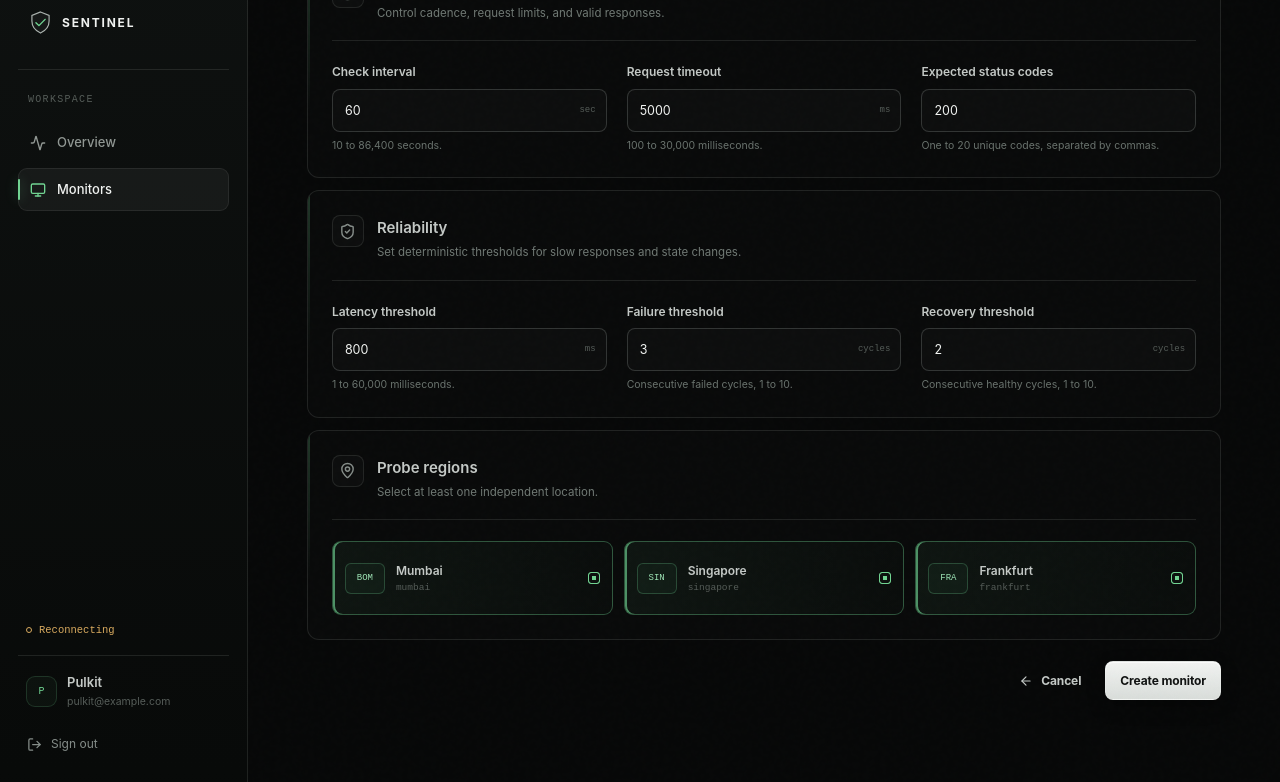
Sentinel monitor workspace › announces required create fields without sending a request
The image size is (1280, 782).
(page scrolled)
Click the button "Create monitor".
click(1163, 681)  # box x1=1105 y1=661 x2=1221 y2=700
(page scrolled)
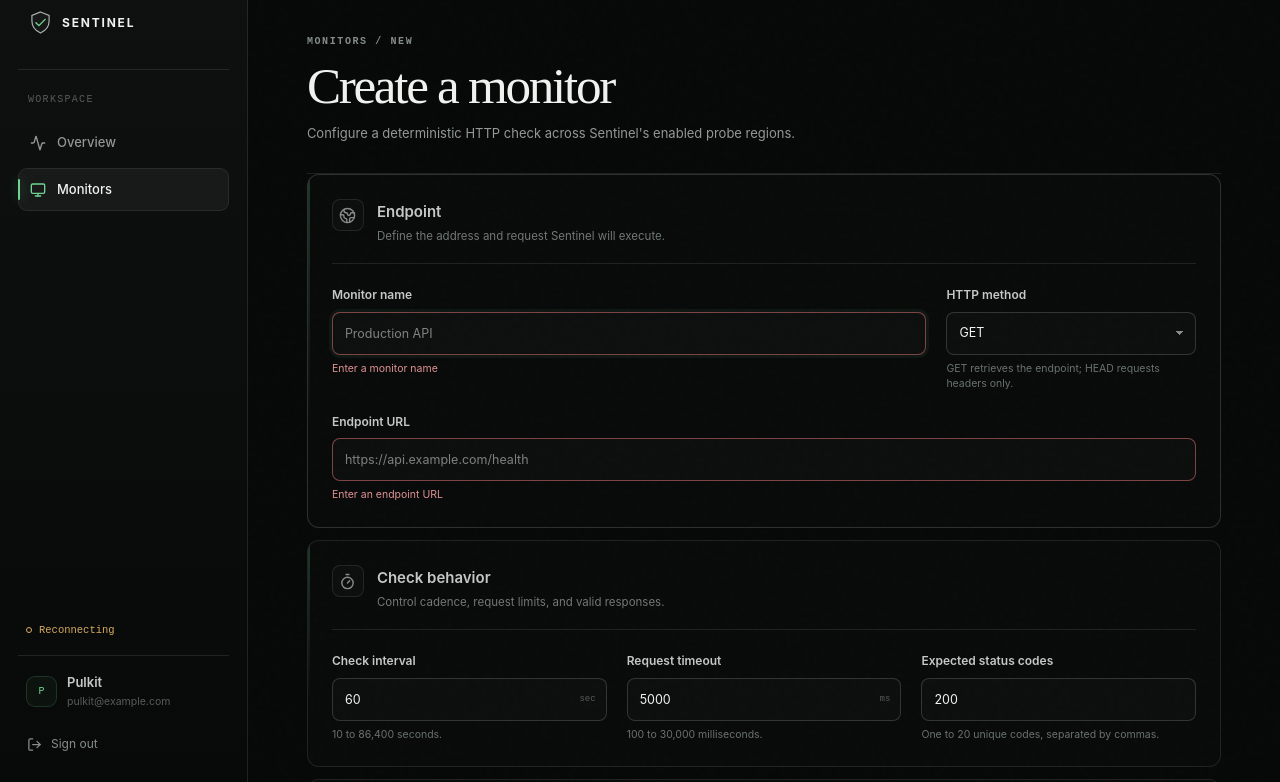
Now the text "Enter a monitor name" is shown, box x1=332 y1=362 x2=438 y2=375
Now the text "Enter an endpoint URL" is shown, box x1=332 y1=488 x2=443 y2=501
